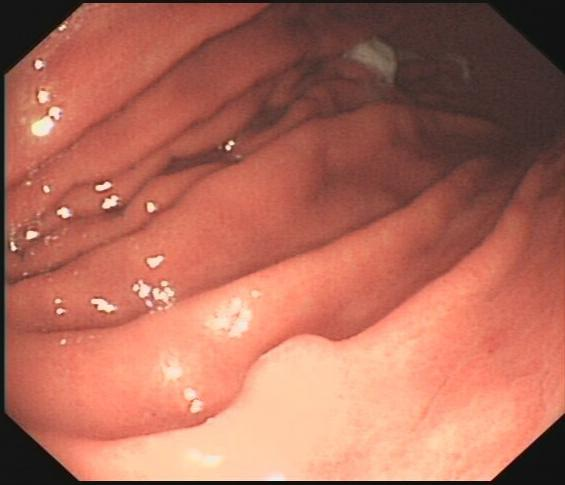Polyp: (228, 328, 344, 397)
